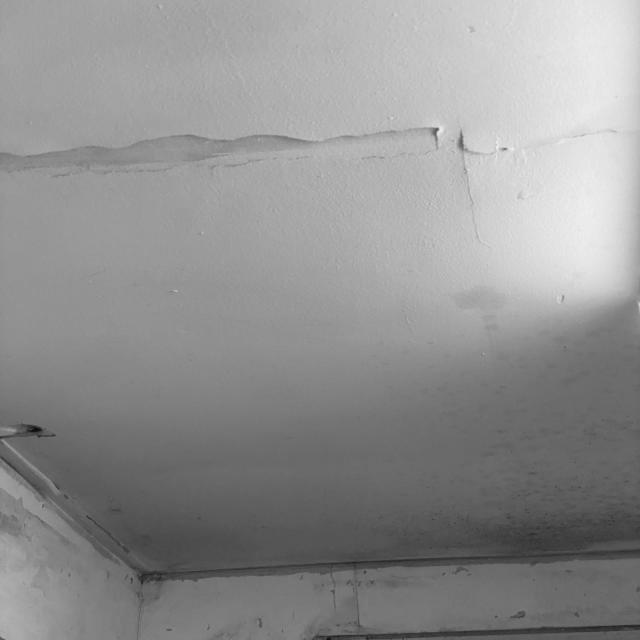stain marks: (0, 120, 454, 186), (482, 386, 636, 566), (0, 481, 140, 640), (139, 513, 485, 577), (302, 578, 640, 640), (456, 110, 636, 188), (445, 257, 535, 382), (143, 579, 298, 640)
